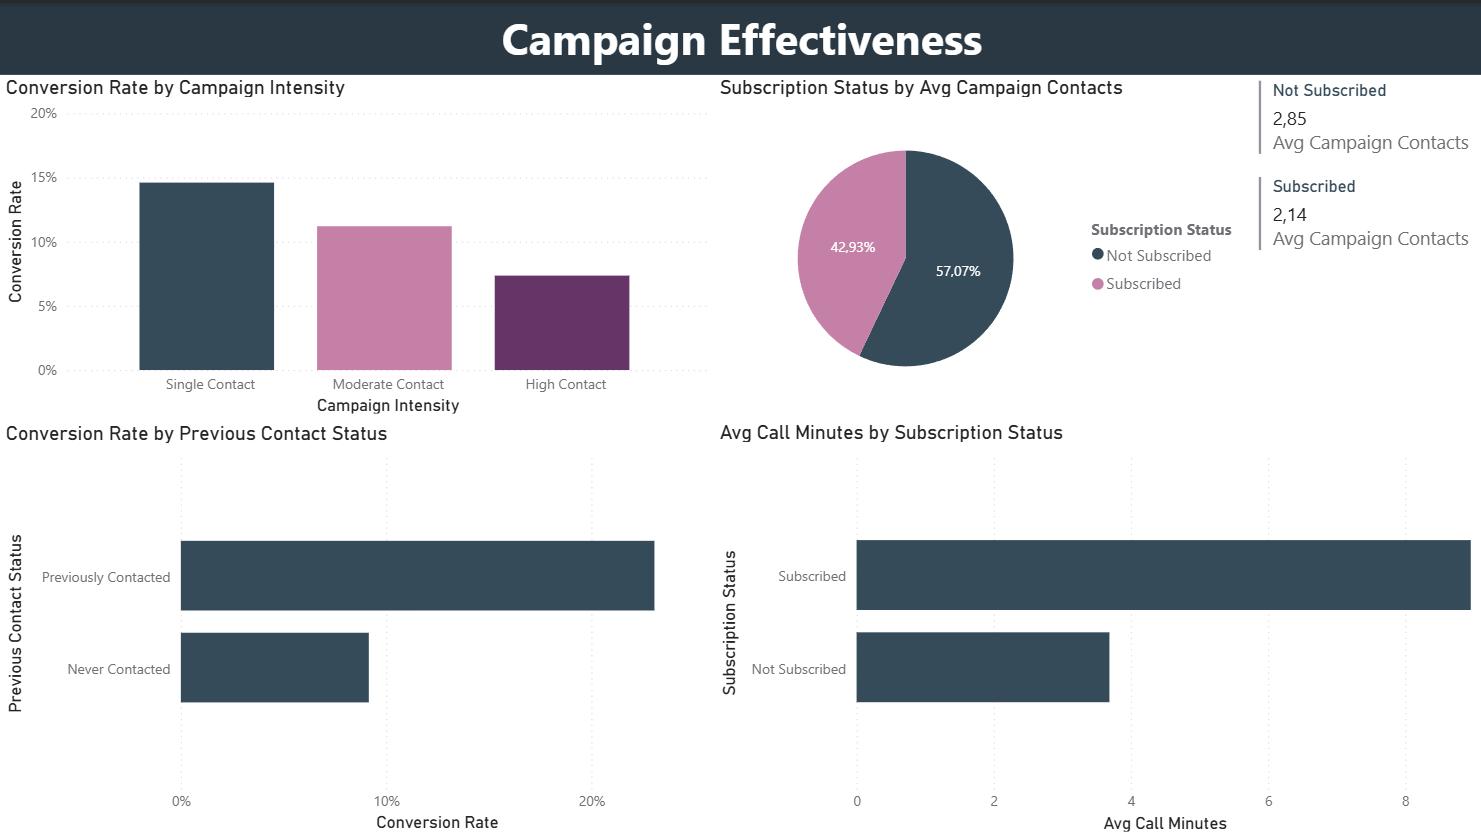

This screenshot's page, from the dashboard's own definition file:
{"tool":"powerbi","page":{"name":"Campaign Effectiveness","canvas":[1280,720],"ordinal":1},"visuals":[{"type":"textbox","box":[0,0,1280,62.1],"z":0},{"type":"columnChart","title":"Conversion Rate by Campaign Intensity","fields":{"Y":["bank_marketing_clean.Conversion Rate"],"Category":["bank_marketing_clean.campaign_intensity"],"Series":["bank_marketing_clean.campaign_intensity"]},"box":[0,61.9,615.6,297.5],"z":1000},{"type":"multiRowCard","fields":{"Values":["bank_marketing_clean.subscription_status","Avg(bank_marketing_clean.campaign_contacts)"]},"box":[1081.1,61.9,198.9,176.4],"z":2000},{"type":"clusteredBarChart","title":"Avg Call Minutes by Subscription Status","fields":{"Category":["bank_marketing_clean.subscription_status"],"Y":["bank_marketing_clean.Avg Call Minutes"]},"box":[615.6,359.4,664.4,360.4],"z":3000},{"type":"pieChart","title":"Subscription Status by Avg Campaign Contacts","fields":{"Category":["bank_marketing_clean.subscription_status"],"Y":["Avg(bank_marketing_clean.campaign_contacts)"]},"box":[615.6,61.9,465.5,297.5],"z":4000},{"type":"clusteredBarChart","title":"Conversion Rate by Previous Contact Status","fields":{"Category":["bank_marketing_clean.previous_contact_status"],"Y":["bank_marketing_clean.Conversion Rate"]},"box":[0,360.4,615.6,359.4],"z":5000}]}

Visuals, with their boxes in screenshot pixels (x1, y1, x2, y2), scaled from the page's 1280x720 canvas onto the 1481x836 screenshot:
textbox: crop(0, 0, 1480, 72)
"Conversion Rate by Campaign Intensity" columnChart: crop(0, 72, 712, 417)
multiRowCard - bank_marketing_clean.subscription_status x Avg(bank_marketing_clean.campaign_contacts): crop(1251, 72, 1480, 277)
"Avg Call Minutes by Subscription Status" clusteredBarChart: crop(712, 417, 1480, 835)
"Subscription Status by Avg Campaign Contacts" pieChart: crop(712, 72, 1251, 417)
"Conversion Rate by Previous Contact Status" clusteredBarChart: crop(0, 418, 712, 835)
